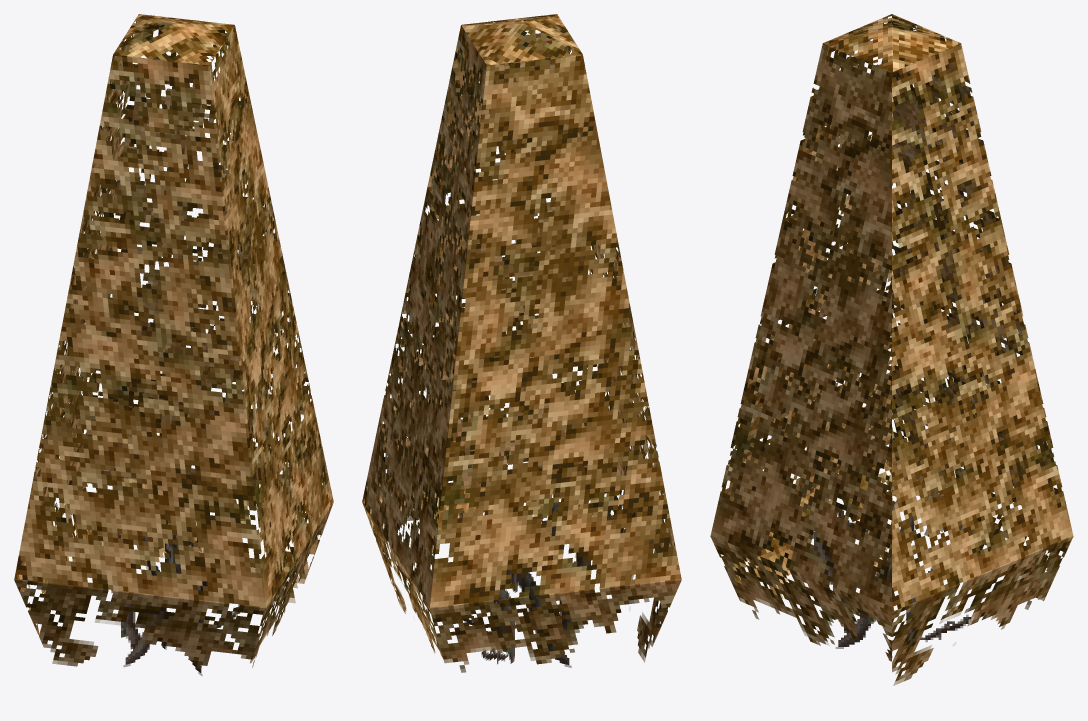
The model's file is bush_end_tall_roots_autumn.glb.
The picture shows the model from 3 angles, left to right: view 1: azimuth 30°, elevation 25°; view 2: azimuth 150°, elevation 25°; view 3: azimuth 270°, elevation 25°; orthographic projection.
Parts seen in each view (by area): view 1: bush_end_tall_roots_autumn; view 2: bush_end_tall_roots_autumn; view 3: bush_end_tall_roots_autumn.
Part boxes in pixels (left/top/right/bottom): bush_end_tall_roots_autumn: left=14, top=14, right=333, bottom=675; bush_end_tall_roots_autumn: left=362, top=14, right=681, bottom=672; bush_end_tall_roots_autumn: left=710, top=14, right=1073, bottom=685.
Size of the model in its own units: 1.39 by 2.63 by 1.39.
2 materials, 2 textured.
